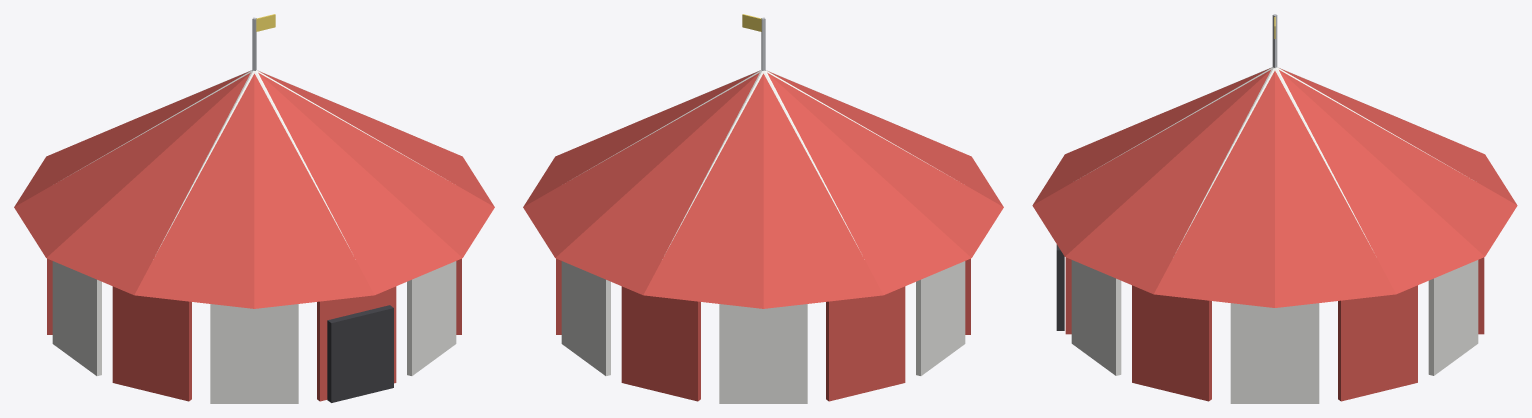
Rendered from circus_tent.glb.
The picture shows the model from 3 angles, left to right: view 1: azimuth 30°, elevation 25°; view 2: azimuth 150°, elevation 25°; view 3: azimuth 270°, elevation 25°; orthographic projection.
Parts seen in each view (by area): view 1: circus_tent; view 2: circus_tent; view 3: circus_tent.
Boxes of the visible parts, box(x1,y1,x2,y2) form: circus_tent: box(14, 14, 494, 403); circus_tent: box(523, 14, 1003, 403); circus_tent: box(1032, 14, 1517, 403).
Size of the model in its own units: 12 by 8.2 by 12.
